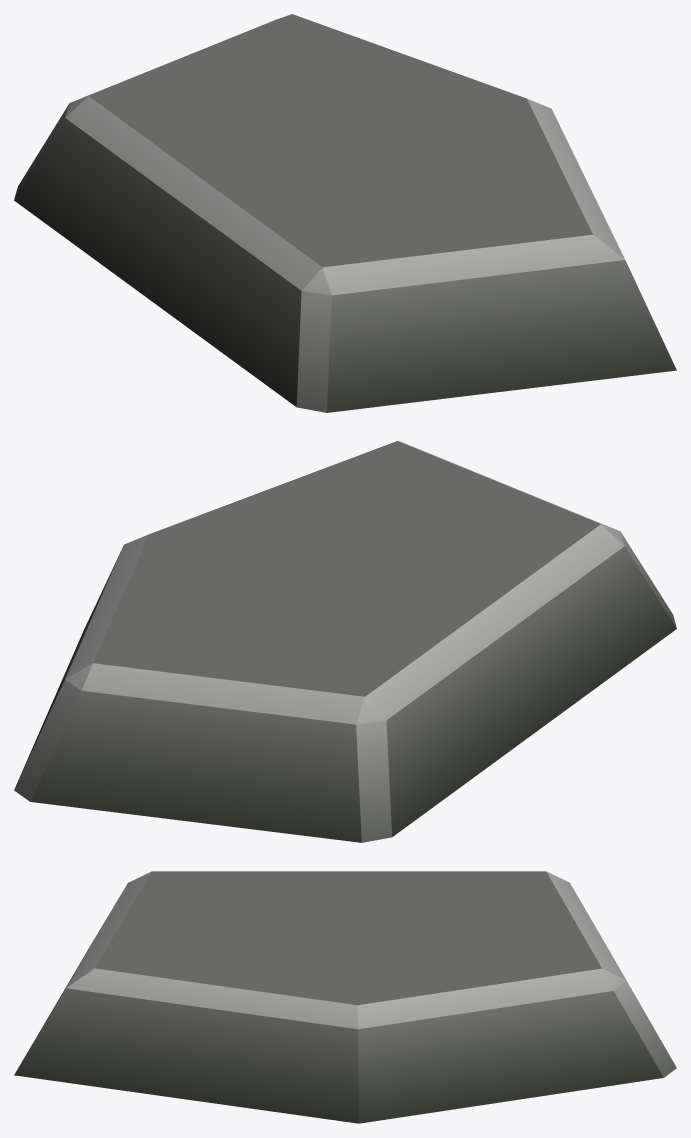
The model's file is Roadstones-1-2.fbx.
The picture shows the model from 3 angles, top to bottom: view 1: azimuth 30°, elevation 25°; view 2: azimuth 150°, elevation 25°; view 3: azimuth 270°, elevation 25°; orthographic projection. The views are drawn at different scales.
Parts seen in each view (by area): view 1: Roadstones-1-2; view 2: Roadstones-1-2; view 3: Roadstones-1-2.
Boxes of the visible parts, bbox=[...] form: Roadstones-1-2: bbox=[14, 14, 676, 412]; Roadstones-1-2: bbox=[14, 441, 676, 842]; Roadstones-1-2: bbox=[14, 871, 676, 1123].
Size of the model in its own units: 75.88 by 18.02 by 117.
